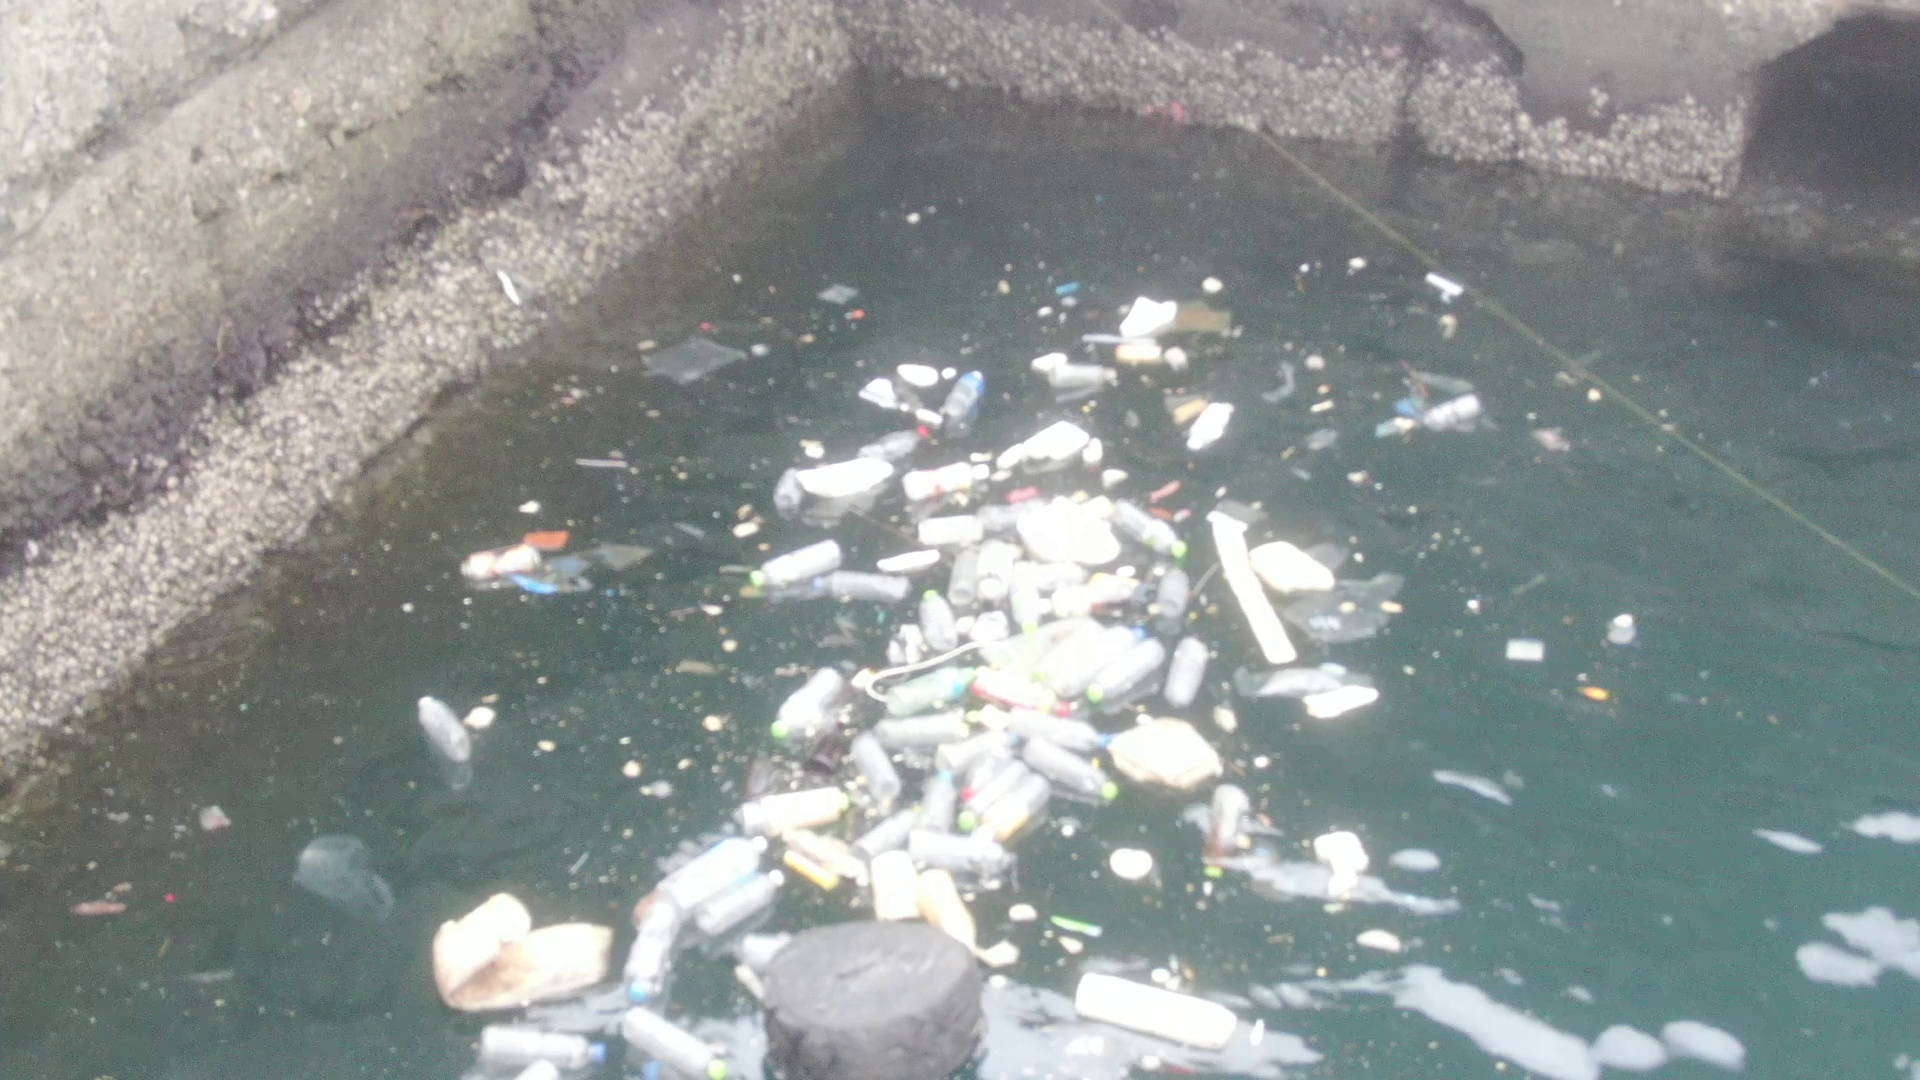bottle: (469, 1010, 618, 1080), (732, 524, 853, 603), (405, 684, 483, 770)
garbage: (295, 504, 1419, 1080), (646, 243, 1495, 713)
